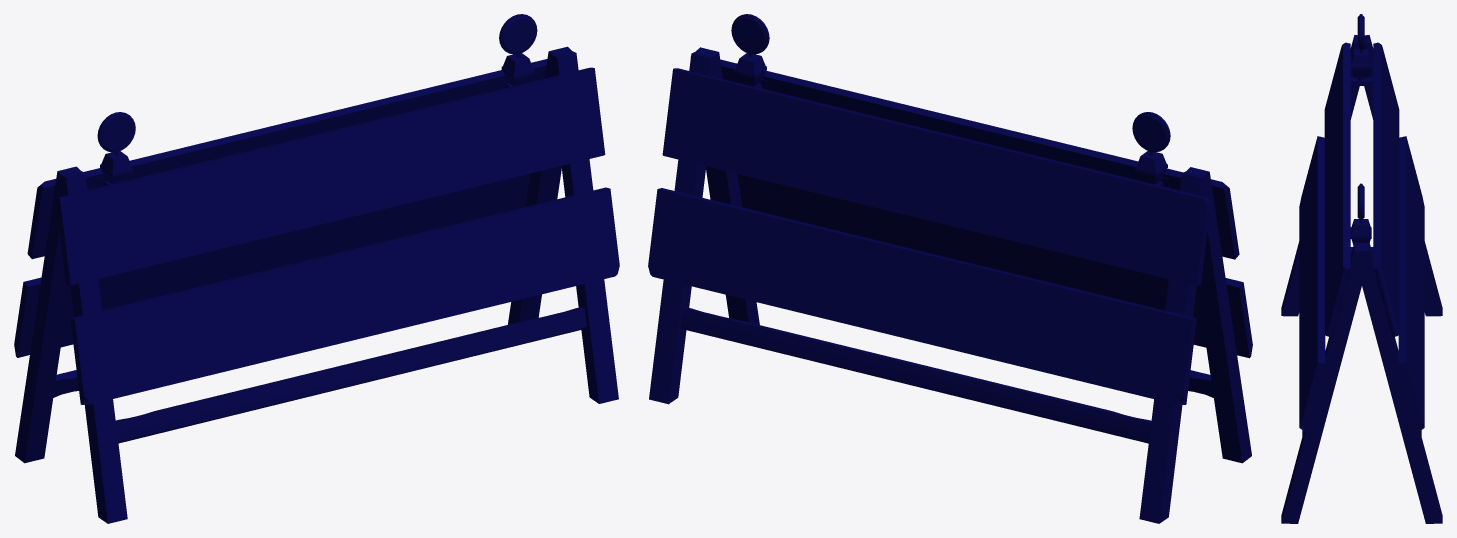
The model's file is SM_RoadSign.fbx.
3 renders of one model, left to right at view 1: azimuth 30°, elevation 25°; view 2: azimuth 150°, elevation 25°; view 3: azimuth 270°, elevation 25°, orthographic. The views are drawn at different scales.
Parts seen in each view (by area): view 1: RoadSign; view 2: RoadSign; view 3: RoadSign.
Boxes of the visible parts, bbox=[...] form: RoadSign: bbox=[14, 14, 619, 523]; RoadSign: bbox=[648, 14, 1252, 523]; RoadSign: bbox=[1281, 14, 1442, 523].
Size of the model in its own units: 117 by 75.76 by 35.06.
